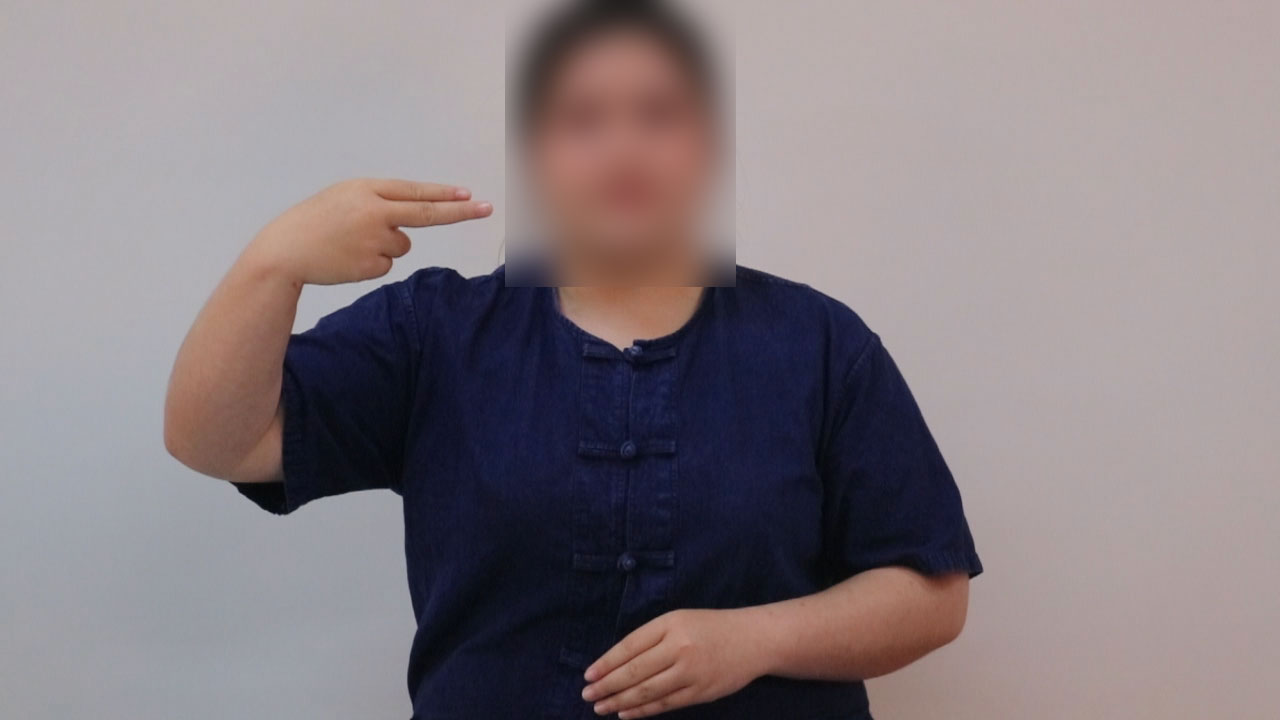hor: (239, 162, 503, 300)
